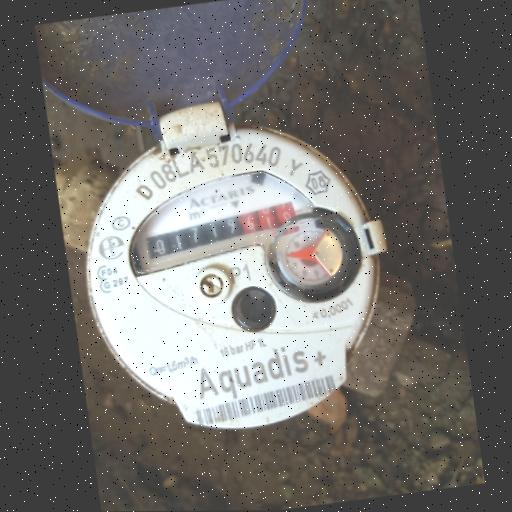0: (259, 205, 277, 230), (277, 200, 295, 224), (152, 233, 169, 258)
1: (170, 229, 187, 254), (206, 220, 223, 244)
6: (242, 212, 259, 235)
7: (187, 224, 205, 249)
9: (224, 215, 242, 240)
border_water_meter_number: (140, 195, 302, 263)
